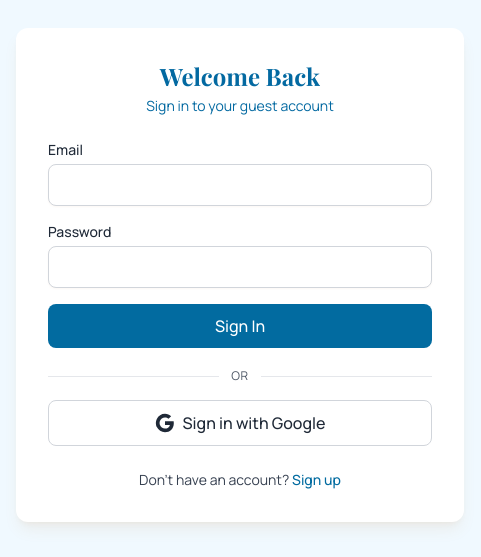
GuestLogin page › shows validation error for invalid email
Type "not-an-email" into the field labelled "Email".
click(240, 185); type("not-an-email")  # box x1=48 y1=164 x2=432 y2=206
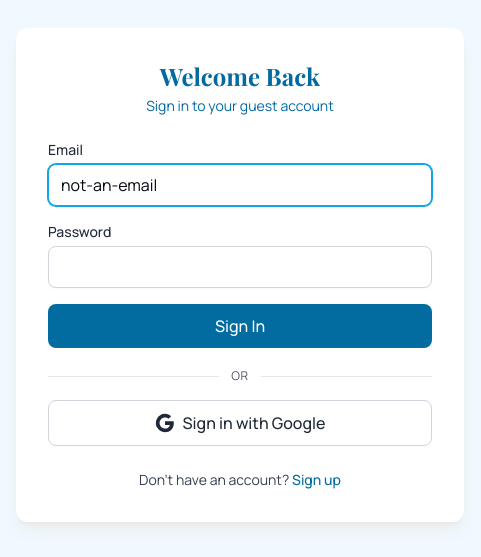
Type "password123" into the password field labelled "Password".
click(240, 267); type("password123")  # box x1=48 y1=246 x2=432 y2=288
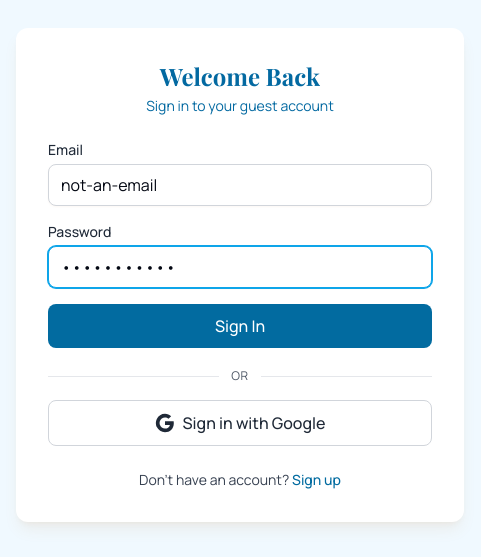
Click the button "Sign In".
click(240, 326)  # box x1=48 y1=304 x2=432 y2=348
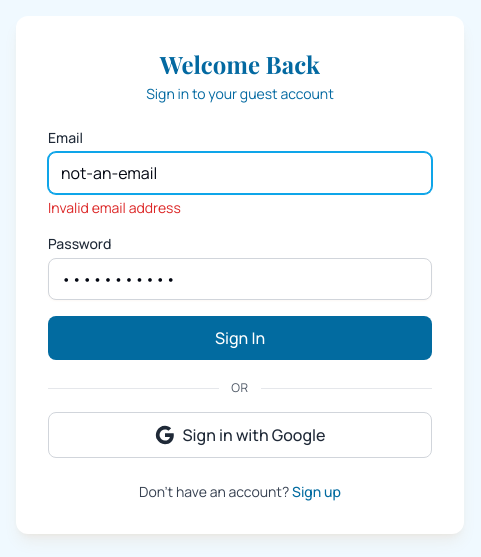
Check: the text "Invalid email address" is shown, box x1=48 y1=198 x2=181 y2=217
